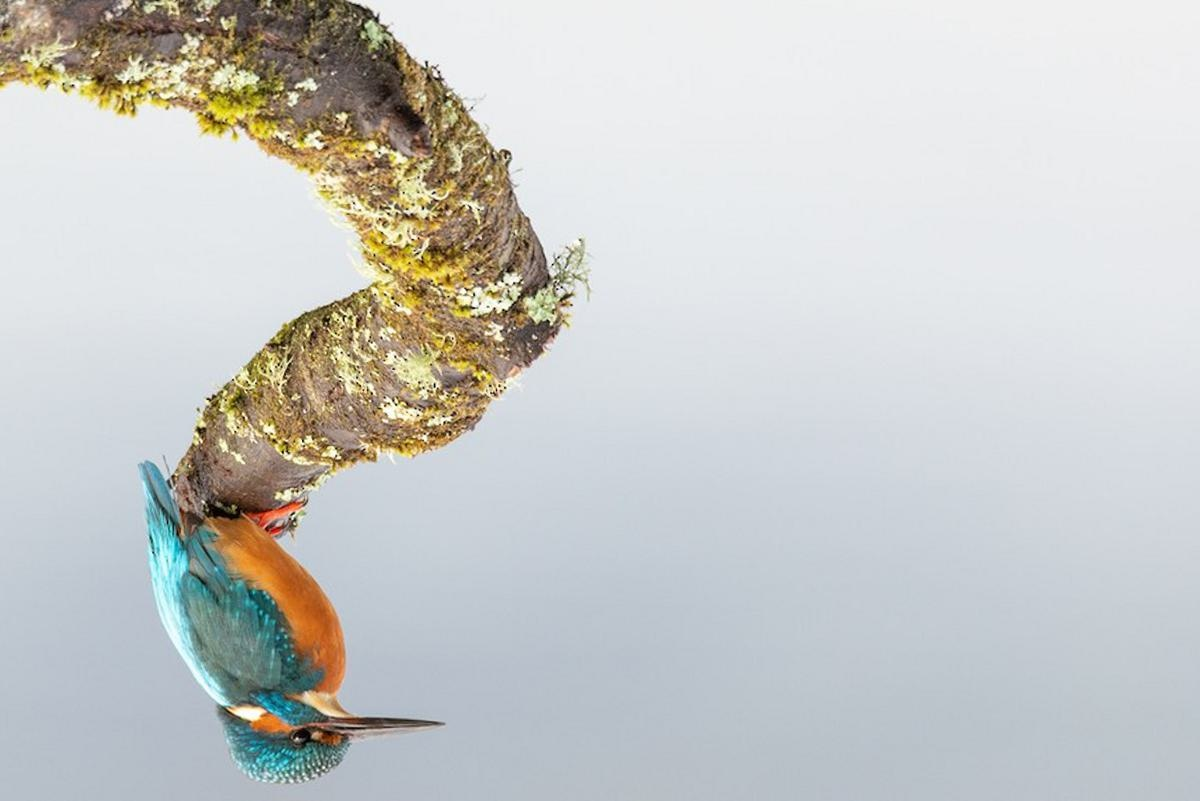kingfisher: (133, 433, 428, 799)
